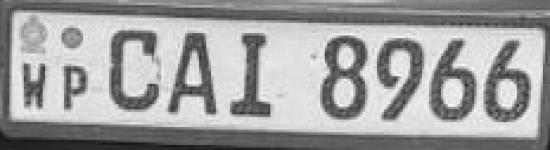6: (485, 40, 532, 123), (430, 38, 476, 122)
8: (324, 36, 365, 120)
9: (379, 39, 426, 120)
A: (170, 31, 218, 114)
C: (112, 31, 159, 108)
I: (231, 35, 271, 116)
P: (62, 65, 89, 109)
W: (22, 63, 46, 108)
